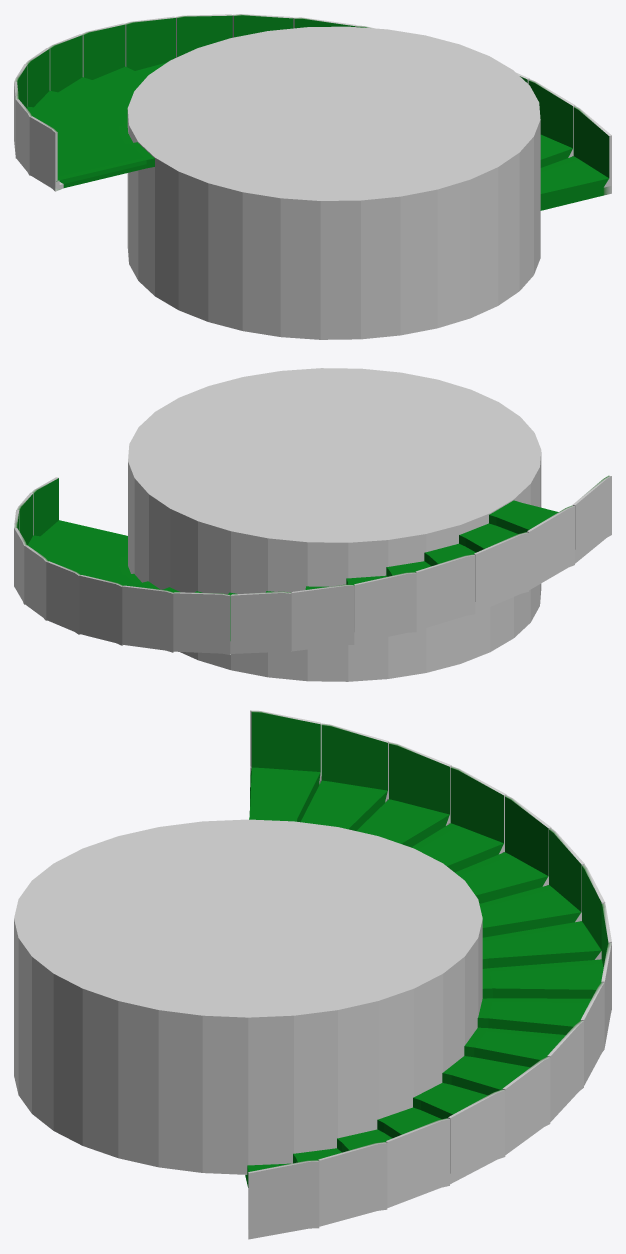
File: RoundShelf_Collision.fbx
3 renders of one model, top to bottom at view 1: azimuth 30°, elevation 25°; view 2: azimuth 150°, elevation 25°; view 3: azimuth 270°, elevation 25°, orthographic. The views are drawn at different scales.
Visible parts, largest first — view 1: CollisionCylinder, CollisionStair; view 2: CollisionCylinder, CollisionStair; view 3: CollisionCylinder, CollisionStair.
Boxes of the visible parts, box(x1,y1,x2,y2) form: CollisionCylinder: box(127, 26, 540, 339); CollisionStair: box(14, 14, 611, 210); CollisionCylinder: box(128, 368, 541, 681); CollisionStair: box(14, 475, 611, 654); CollisionCylinder: box(14, 819, 482, 1174); CollisionStair: box(245, 710, 611, 1239).
Bounding box in the file's own units: 838 × 282 × 689.
